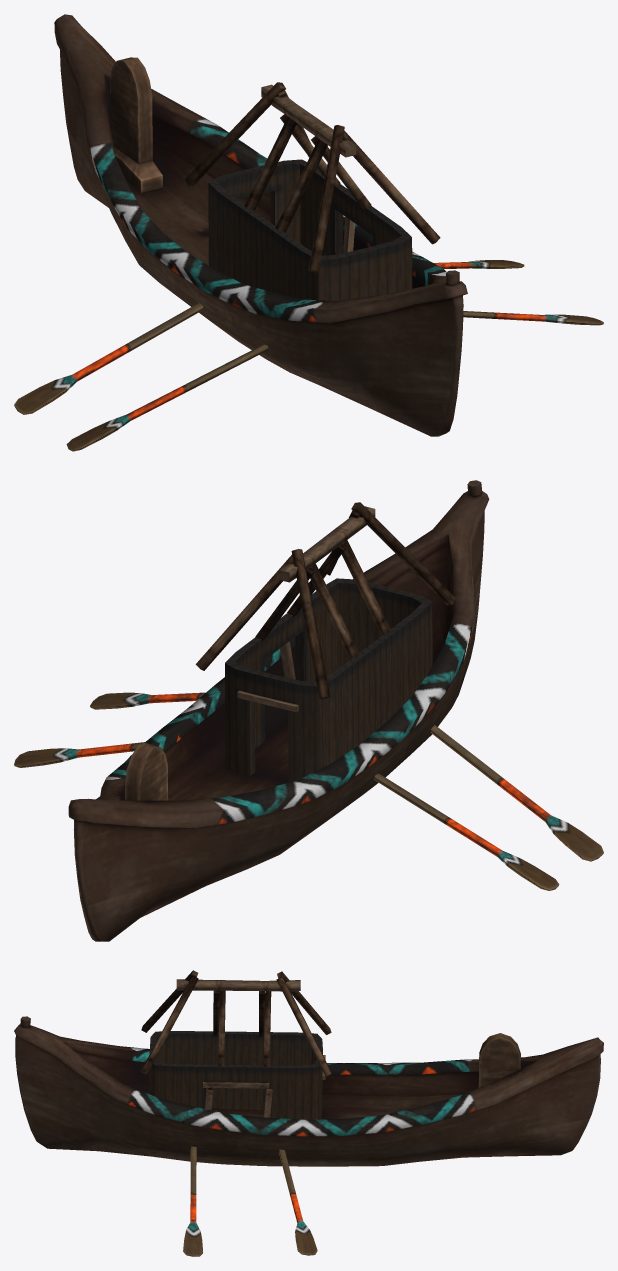
The model's file is body-base.glb.
The picture shows the model from 3 angles, top to bottom: view 1: azimuth 30°, elevation 25°; view 2: azimuth 150°, elevation 25°; view 3: azimuth 270°, elevation 25°; orthographic projection. The views are drawn at different scales.
Size of the model in its own units: 5.09 by 2.59 by 6.81.
1 material, 1 textured.
